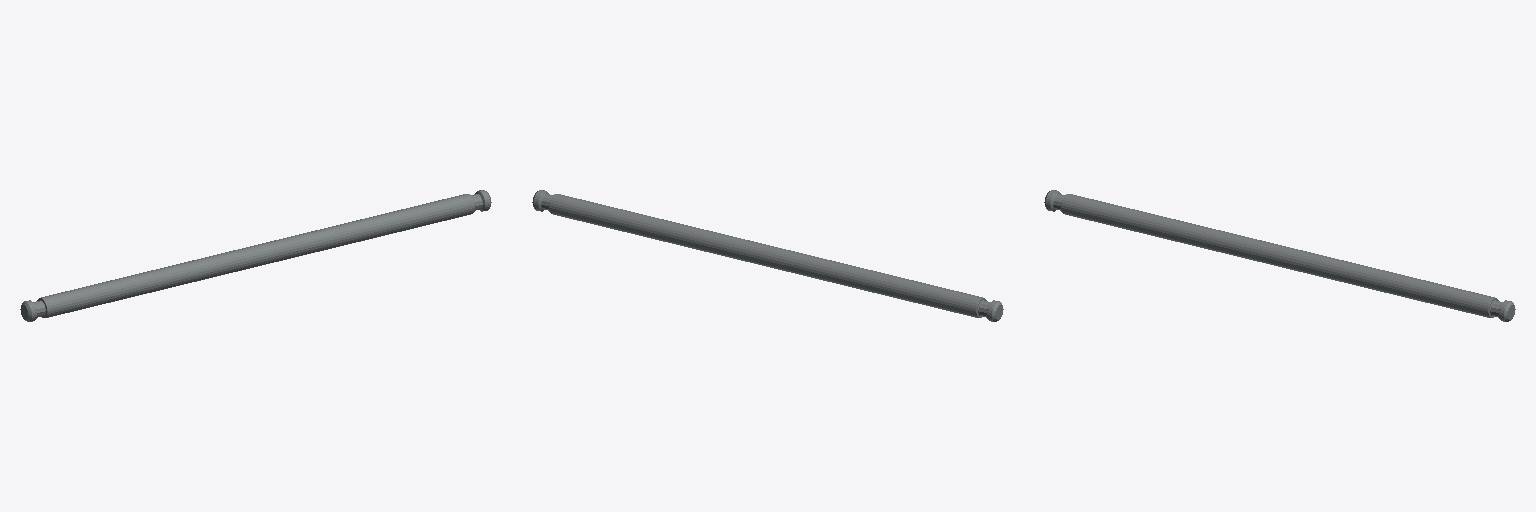
robot.urdf — horizontal_01:
<?xml version="1.0" encoding="utf-8"?>
<!-- This URDF was automatically created by SolidWorks to URDF Exporter! Originally created by Stephen Brawner ([email redacted]) 
     Commit Version: 1.5.1-0-g916b5db  Build Version: 1.5.7152.31018
     For more information, please see http://wiki.ros.org/sw_urdf_exporter -->
<robot
  name="horizontal_01">
  <link
    name="horizontal_01">
    <!-- <inertial>
      <origin
        xyz="0.25 5.26296176911189E-19 0.01"
        rpy="0 0 0" />
      <mass
        value="1.2003" />
      <inertia
        ixx="5.9279E-05"
        ixy="1.37639999999995E-20"
        ixz="8.2947E-18"
        iyy="0.024146"
        iyz="-8.60270000000047E-22"
        izz="0.024146" />
    </inertial> -->
    <inertial>
      <origin
        xyz="0.25 0.01 8.6007E-20"
        rpy="0 0 0" />
      <mass
        value="1.2003" />
      <inertia
        ixx="5.9279E-05"
        ixy="-8.2947E-18"
        ixz="1.3764E-20"
        iyy="0.024146"
        iyz="8.6027E-22"
        izz="0.024146" />
    </inertial>
    <visual>
      <origin
        xyz="0 0 0"
        rpy="0 0 0" />
      <!-- xyz="0.25 0 0"
      rpy="0 0 0" /> -->
    <geometry>
        <mesh
          filename="package://my_ur10_description/meshes/object/horizontal_01.STL" />
      </geometry>
      <material
        name="plain_carbon_steel">
        <color
          rgba="0.52941 0.54902 0.54902 1" />
      </material>
    </visual>
    <collision>
      <origin
        xyz="0 0 0"
        rpy="0 0 0" />
      <geometry>
        <mesh
          filename="package://my_ur10_description/meshes/object/horizontal_01.STL" />
      </geometry>
    </collision>
  </link>

  <gazebo reference="horizontal_01">
      <material>
      <color rgba="0.52941 0.54902 0.54902 1" />
      </material>
    <kp>1000000.0</kp>
    <kd>1.0</kd>
    <mu1>100</mu1>
    <mu2>100</mu2>
    <maxVel>0.0</maxVel>
    <minDepth>0.001</minDepth>
    <!-- <selfCollide>true</selfCollide> -->
    </gazebo>
</robot>

--- Facts derived from the render (not from the file) ---
3 views of the same robot in one strip: view 1: azimuth 30°, elevation 25°; view 2: azimuth 150°, elevation 25°; view 3: azimuth 330°, elevation 25° (orthographic).
Robot: horizontal_01 — 1 links, 0 joints (none); root link horizontal_01; default pose: every joint at zero.
Visible links, largest first — view 1: horizontal_01; view 2: horizontal_01; view 3: horizontal_01.
Link boxes in pixels (box(x1,y1,x2,y2)): horizontal_01: box(20, 190, 491, 321); horizontal_01: box(532, 190, 1003, 321); horizontal_01: box(1044, 190, 1515, 321).
Bounding box of the posed robot: 0.5 × 0.02 × 0.02 m (x, y, z).
1 mesh visuals loaded from 1 distinct referenced files (1 binary STL).
